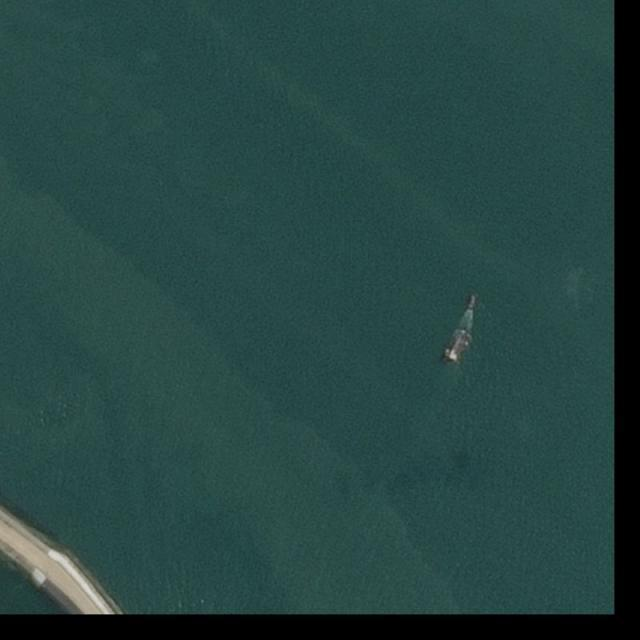ship: (441, 326, 475, 364), (467, 294, 478, 307)
